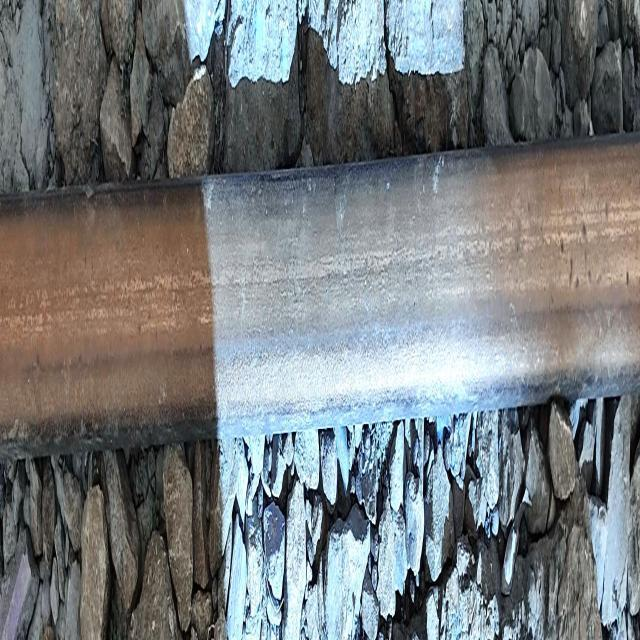head_checks_low: (432, 157, 445, 194), (558, 222, 566, 268), (569, 256, 573, 285), (582, 217, 586, 244), (626, 267, 630, 294)
